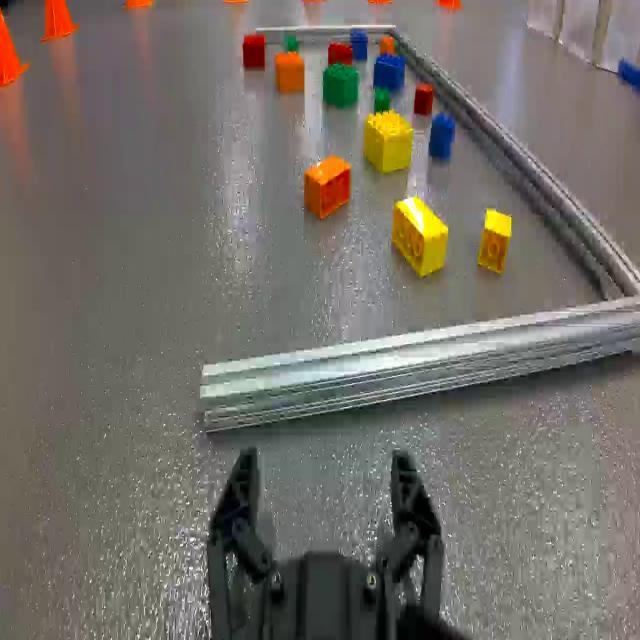block: (393, 195, 448, 280), (366, 109, 414, 173), (478, 205, 512, 277)
blue: (427, 114, 454, 165), (374, 52, 404, 91), (351, 31, 367, 59)
cone: (0, 10, 31, 91), (40, 0, 80, 41), (127, 0, 154, 6), (369, 0, 393, 6), (438, 0, 458, 6), (223, 0, 247, 3), (304, 0, 328, 3)
green: (324, 61, 358, 108), (373, 86, 389, 114), (283, 35, 298, 52)
metal barrier: (198, 23, 640, 434)
orange: (302, 152, 350, 224), (276, 50, 304, 92), (380, 37, 394, 55)
red goal: (242, 32, 266, 68), (329, 40, 353, 66), (414, 84, 434, 114)
river: (619, 60, 640, 94)
storage cube: (560, 0, 609, 68), (599, 0, 640, 75), (526, 0, 565, 45)
